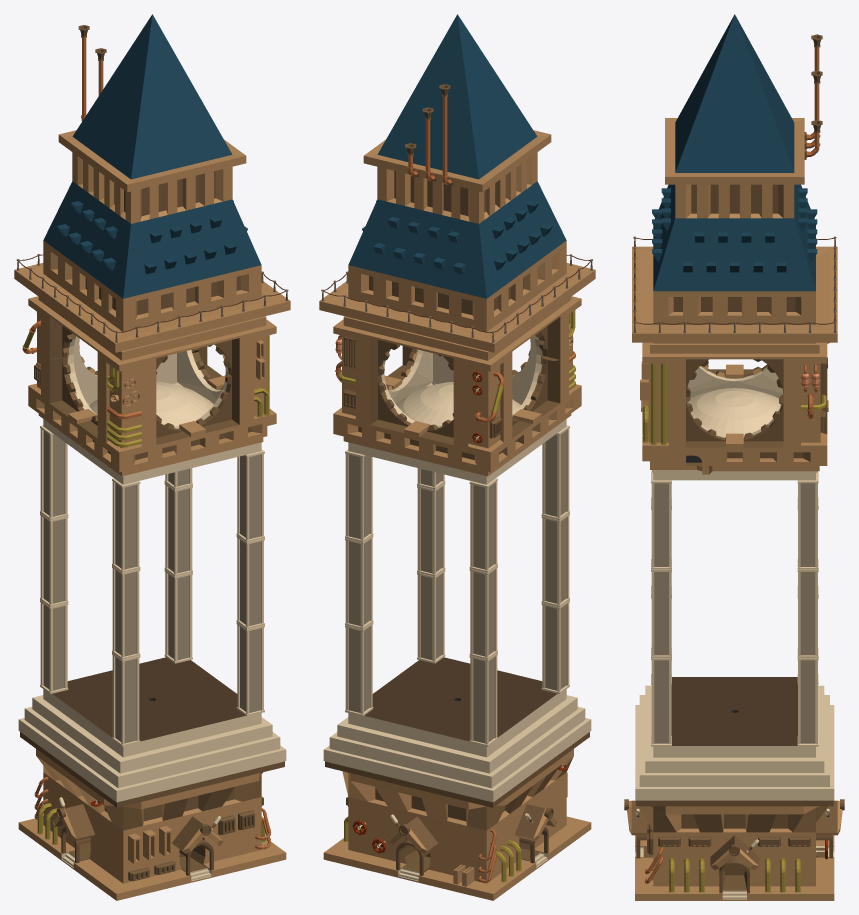
The model's file is IsolatedClockTower.fbx.
The picture shows the model from 3 angles, left to right: view 1: azimuth 30°, elevation 25°; view 2: azimuth 150°, elevation 25°; view 3: azimuth 270°, elevation 25°; orthographic projection.
Parts seen in each view (by area): view 1: MainTowerTop, MainTowerBase, MainTowerPillars; view 2: MainTowerTop, MainTowerBase, MainTowerPillars; view 3: MainTowerTop, MainTowerBase, MainTowerPillars.
Part boxes in pixels (x1=…): MainTowerTop: x1=14, y1=14, x2=290, y2=484; MainTowerBase: x1=18, y1=657, x2=286, y2=900; MainTowerPillars: x1=40, y1=425, x2=264, y2=746; MainTowerTop: x1=319, y1=14, x2=595, y2=484; MainTowerBase: x1=323, y1=657, x2=591, y2=900; MainTowerPillars: x1=345, y1=425, x2=569, y2=746; MainTowerTop: x1=632, y1=14, x2=837, y2=480; MainTowerBase: x1=624, y1=677, x2=844, y2=900; MainTowerPillars: x1=651, y1=470, x2=818, y2=746.
Size of the model in its own units: 135 by 573 by 135.
